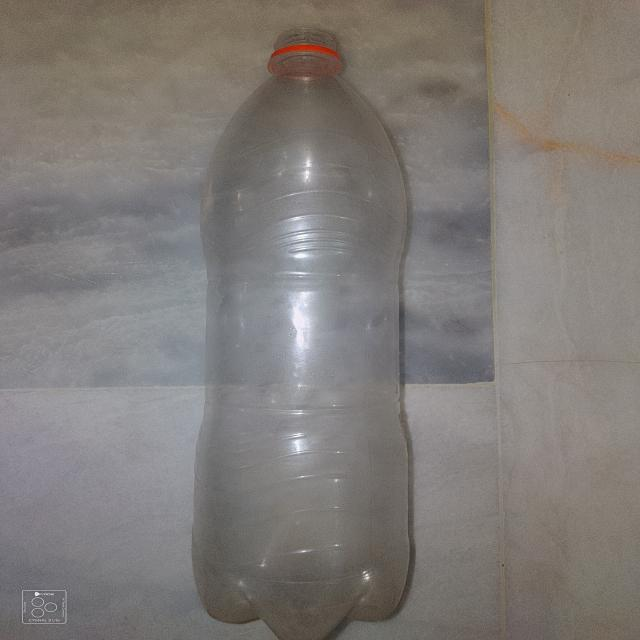bottle: (187, 11, 446, 640)
